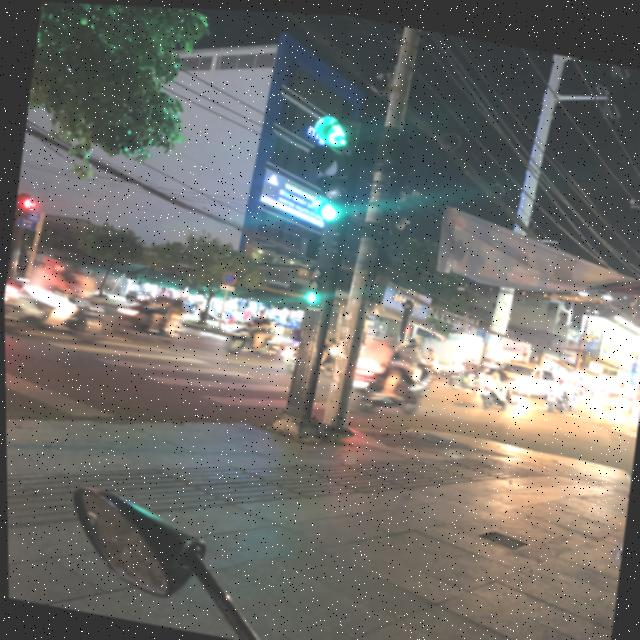Green: (298, 142, 357, 226), (298, 254, 334, 314)
